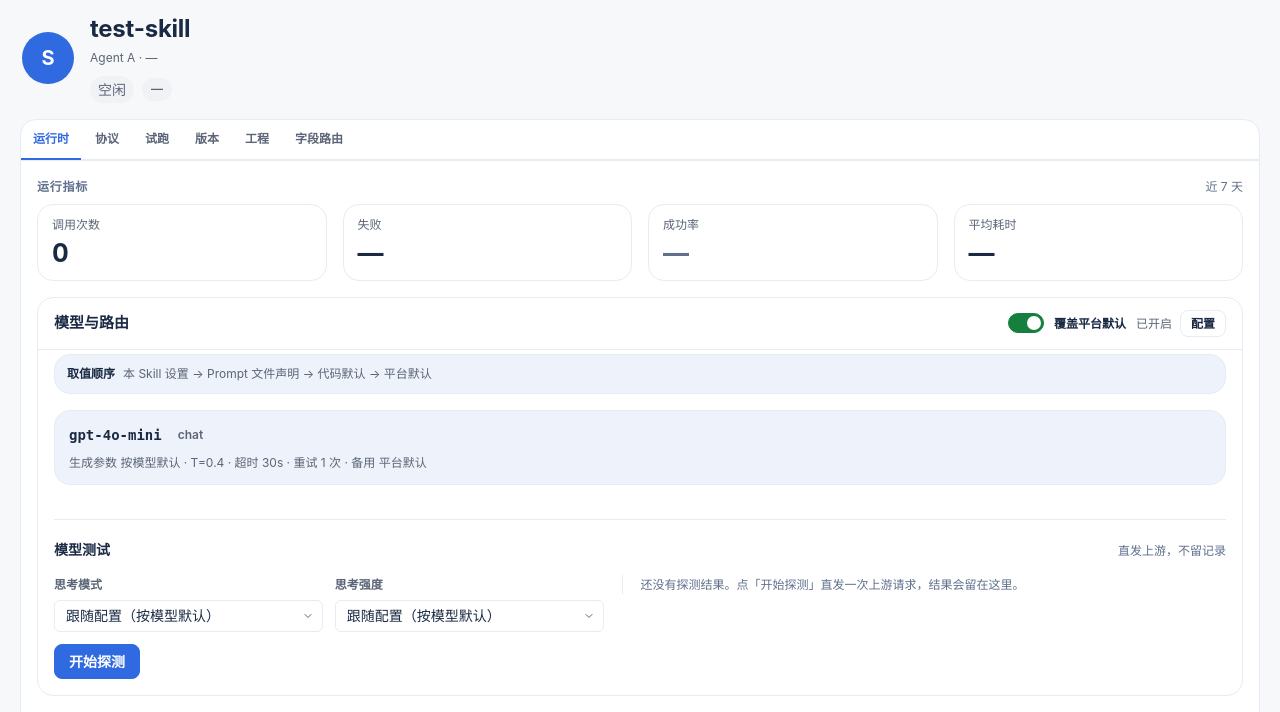
Test: SkillDetail 设计能力平铺：只读区块就地渲染 › 协议 tab：输入/输出契约卡按 promptRole 方向拆分，角色词表来自后端下发
Click the tab with class "mk-subtab" showing "协议": point(107, 140) x1=83 y1=120 x2=131 y2=160
(page scrolled)
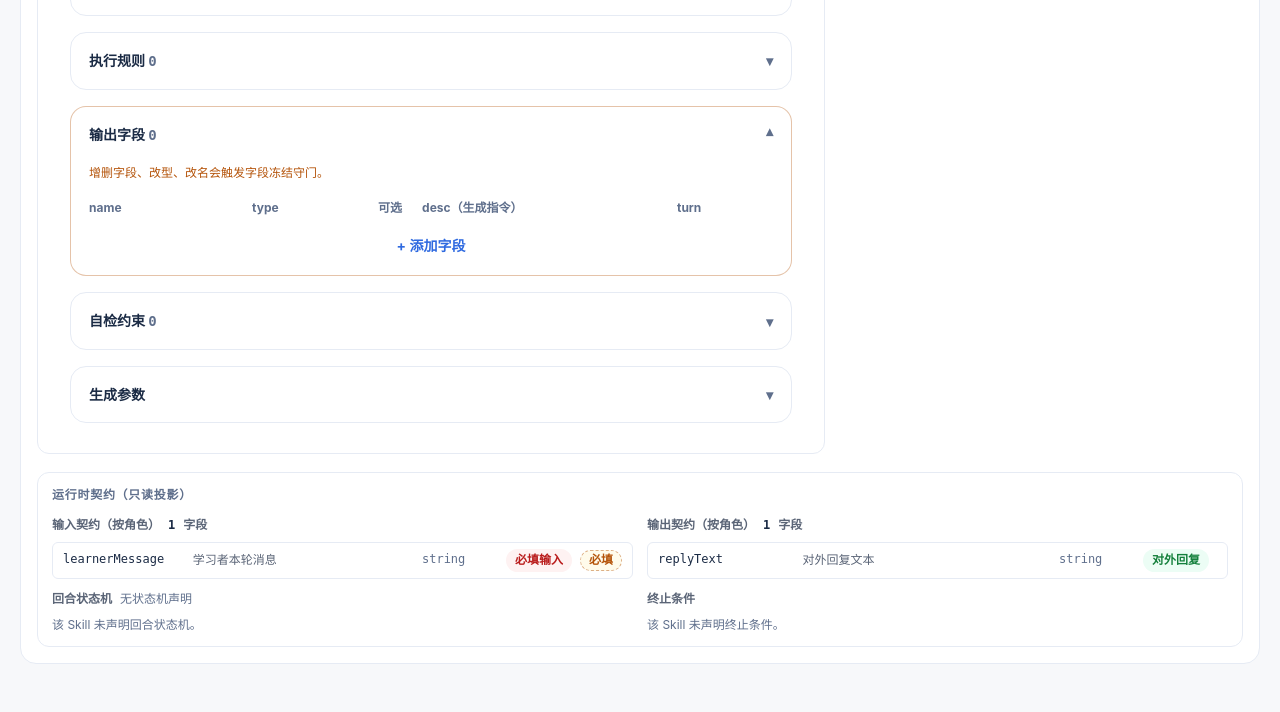
Now the element with class "sdp-proj" is shown, box x1=37 y1=472 x2=1243 y2=647
Now the element with class "sdp-proj__col" shows "输入契约", box x1=52 y1=517 x2=160 y2=532
Now the element with class "sdp-proj__col" shows "learnerMessage", box x1=63 y1=552 x2=164 y2=566
